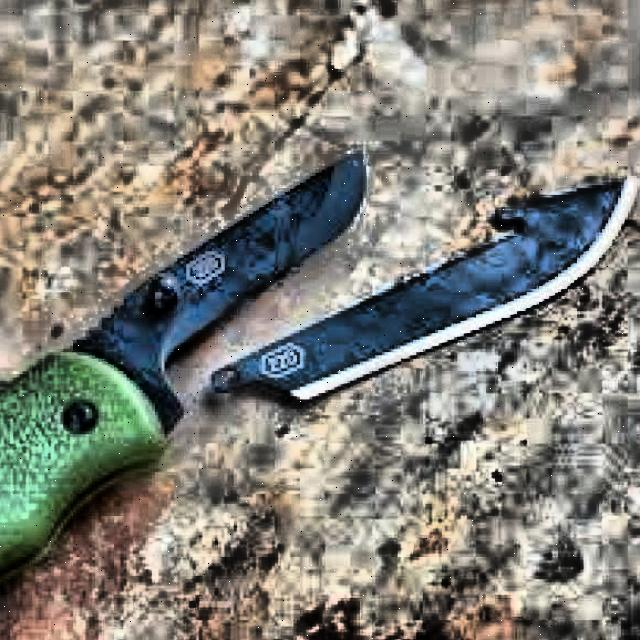knife: (0, 146, 376, 609)
